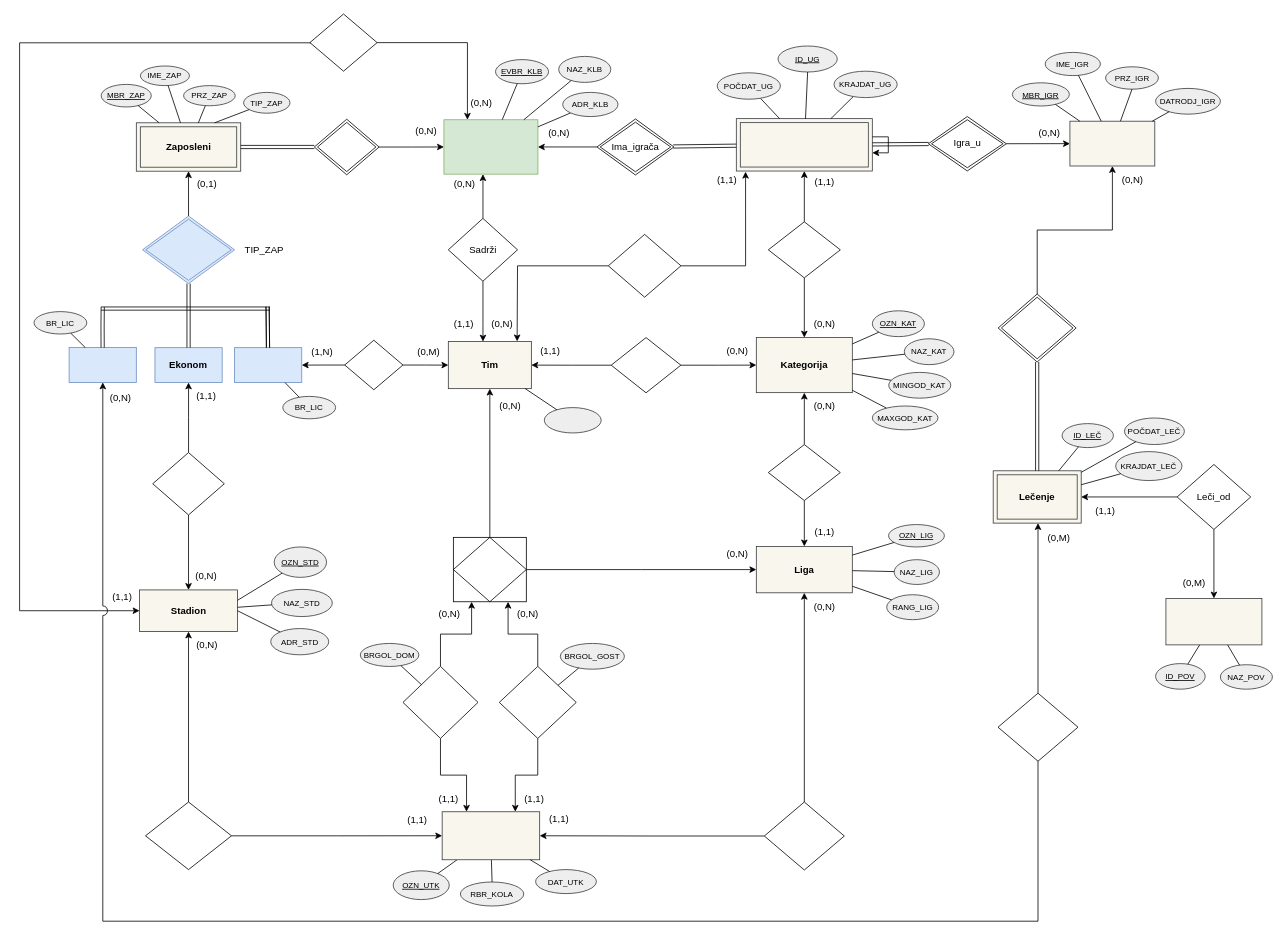
Some shapes in this 1286 by 942 pixel diagram are drawn without their labels. Here are the shapes that lost their labels. From the top down, the centre of each, then its label:
At (343,42): "Poseduje".
At (346,146): "Rade".
At (490,146): "Fudbalski_klub".
At (804,144): "Ugovor_igrača".
At (1112,143): "Igrač".
At (188,249): "IS-A".
At (644,265): "Član_tima".
At (804,249): "Igrač_pripada".
At (1036,327): "Leči_se".
At (102,364): "Lekar".
At (268,364): "Trener".
At (373,364): "Trenira".
At (645,365): "Pripada".
At (572,420): "EVBR_TIM".
At (188,483): "Održava".
At (804,472): "Liga_pripada".
At (489,569): "Učestvuje".
At (1213,621): "Tip_povrede".
At (440,702): "Tim_domaćin".
At (537,702): "Tim_gost".
At (1037,726): "Leči".
At (188,835): "Održava_se_na".
At (490,835): "Utakmica".
At (804,835): "Organizuje".
